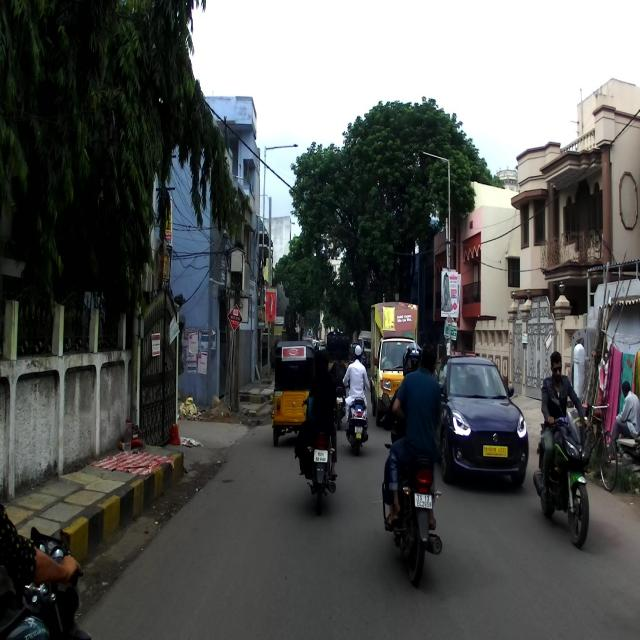car: (430, 353, 528, 484)
motorcycle: (376, 391, 444, 584), (532, 397, 596, 554), (301, 395, 337, 514)
scooter: (343, 378, 372, 455)
